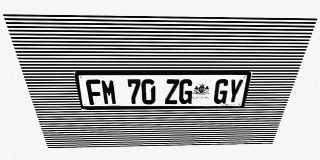0: (141, 79, 155, 104)
7: (126, 79, 141, 104)
F: (85, 79, 103, 105)
G: (212, 79, 230, 104), (178, 79, 194, 104)
M: (100, 79, 117, 105)
Y: (226, 79, 244, 104)
Z: (165, 79, 179, 104)
